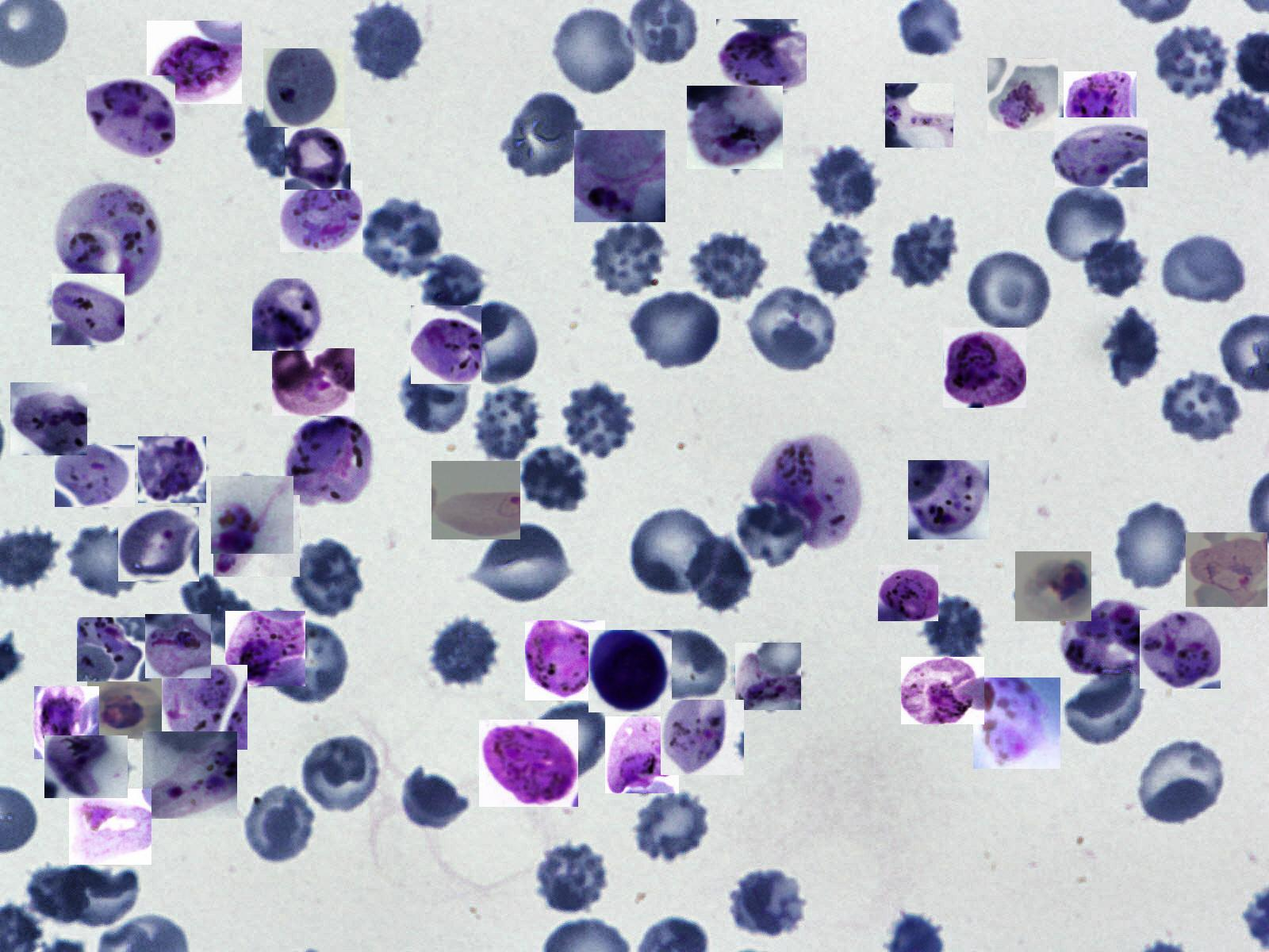Infected: (749, 433, 861, 545), (59, 179, 161, 291), (282, 416, 374, 510), (479, 720, 578, 807), (574, 130, 665, 222), (143, 732, 237, 820), (1064, 597, 1160, 683), (687, 86, 783, 169), (973, 678, 1060, 769), (147, 21, 242, 104), (86, 75, 175, 158), (162, 665, 247, 750), (213, 495, 300, 577), (431, 461, 520, 539), (588, 630, 672, 712), (943, 328, 1026, 408), (1055, 117, 1148, 187), (525, 620, 605, 701), (716, 19, 807, 90), (263, 48, 344, 127), (908, 460, 989, 539), (211, 476, 293, 554), (1140, 611, 1221, 689), (69, 789, 151, 865), (661, 700, 744, 775), (1186, 532, 1267, 607), (119, 507, 200, 582), (225, 611, 305, 686), (280, 180, 362, 252), (605, 716, 679, 793), (272, 348, 355, 416), (10, 382, 87, 455), (901, 658, 984, 725), (411, 305, 481, 384), (1064, 71, 1137, 144), (252, 278, 325, 351), (1015, 551, 1091, 621), (44, 735, 128, 798), (52, 274, 125, 346), (987, 58, 1058, 131), (55, 445, 135, 507), (34, 686, 99, 759), (77, 618, 151, 682), (87, 678, 163, 739), (138, 436, 206, 503), (735, 643, 801, 710), (885, 83, 953, 148), (145, 614, 211, 678), (285, 129, 351, 190), (878, 565, 938, 621)
Uninfected: (627, 503, 724, 597), (471, 520, 573, 608), (550, 6, 641, 96), (748, 284, 841, 372), (1137, 736, 1226, 827), (1113, 497, 1196, 593), (965, 247, 1056, 334), (455, 298, 542, 389), (261, 618, 352, 704), (629, 288, 724, 370), (358, 196, 448, 278), (301, 732, 385, 818), (502, 90, 584, 178), (636, 629, 730, 703), (589, 218, 674, 298), (1160, 232, 1248, 309), (628, 787, 715, 864), (1044, 182, 1125, 263), (1150, 21, 1233, 100), (527, 699, 605, 783), (1158, 368, 1245, 443), (1068, 670, 1153, 746), (286, 539, 366, 618), (727, 868, 811, 941), (242, 784, 317, 865), (802, 218, 877, 299), (687, 229, 771, 300), (423, 613, 496, 694), (531, 839, 610, 913), (347, 2, 419, 83), (803, 144, 879, 220), (561, 385, 636, 461), (683, 533, 753, 614), (889, 211, 960, 290), (67, 525, 142, 597), (473, 388, 543, 463), (53, 867, 140, 927), (1102, 304, 1164, 387), (396, 360, 466, 433), (516, 445, 591, 512), (918, 592, 989, 661), (737, 505, 807, 570), (240, 108, 304, 179), (1082, 237, 1149, 299), (421, 251, 486, 313), (401, 765, 465, 827), (25, 864, 91, 923)
